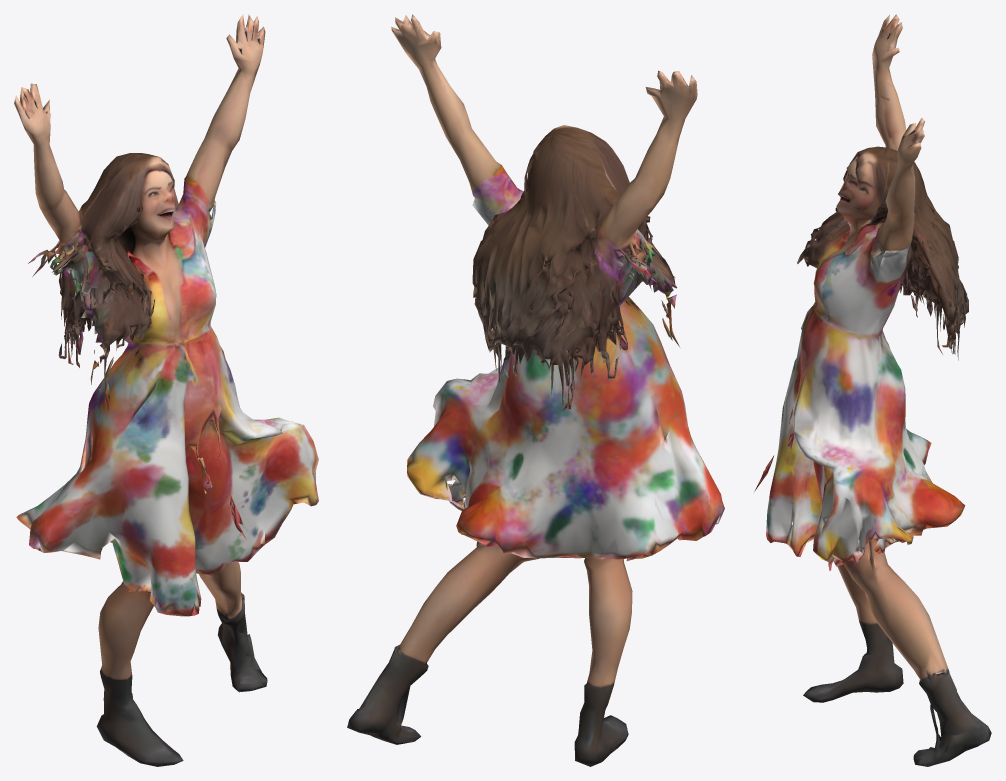
The model's file is girl.glb.
3 renders of one model, left to right at view 1: azimuth 30°, elevation 25°; view 2: azimuth 150°, elevation 25°; view 3: azimuth 270°, elevation 25°, orthographic. The views are drawn at different scales.
Bounding box in the file's own units: 0.8526 × 2 × 0.6747.
Materials: 1 (1 with a texture image).
